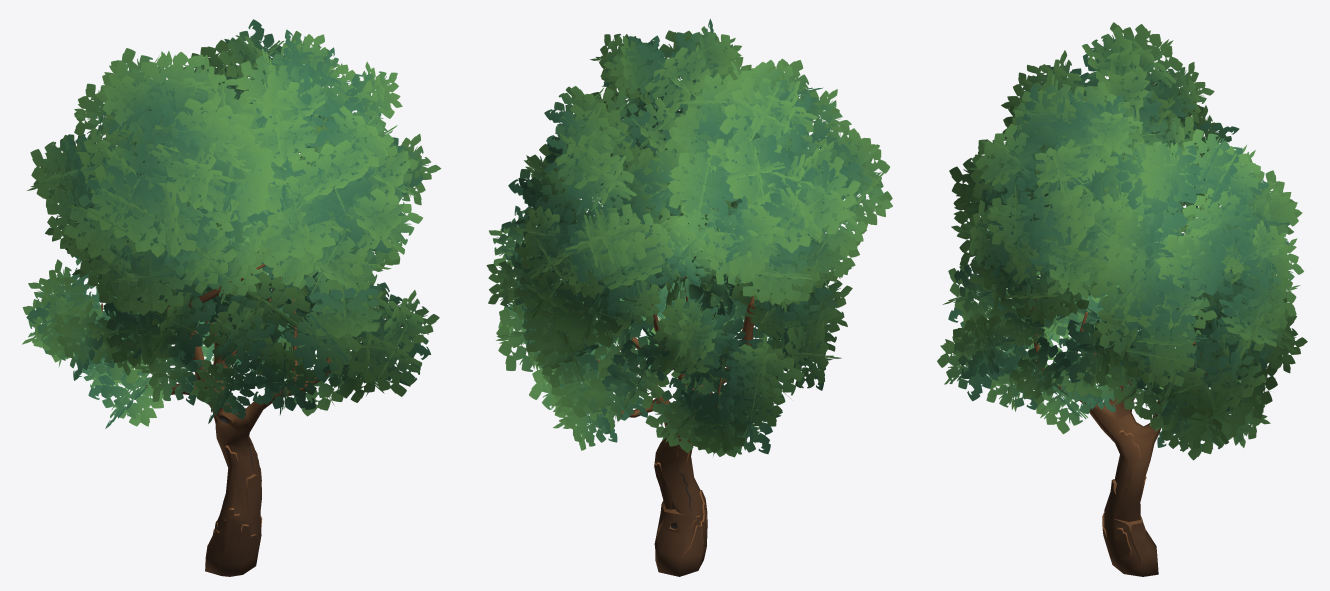
The model's file is tree_toon_1.glb.
3 renders of one model, left to right at view 1: azimuth 30°, elevation 25°; view 2: azimuth 150°, elevation 25°; view 3: azimuth 270°, elevation 25°, orthographic. The views are drawn at different scales.
Parts seen in each view (by area): view 1: TFF_Oak_Tree_01A_LOD0; view 2: TFF_Oak_Tree_01A_LOD0; view 3: TFF_Oak_Tree_01A_LOD0.
Part boxes in pixels (bbox=[...]): TFF_Oak_Tree_01A_LOD0: bbox=[22, 19, 441, 576]; TFF_Oak_Tree_01A_LOD0: bbox=[486, 18, 892, 576]; TFF_Oak_Tree_01A_LOD0: bbox=[937, 22, 1307, 576].
Size of the model in its own units: 10.49 by 14.4 by 9.66.
2 materials, 2 textured.
